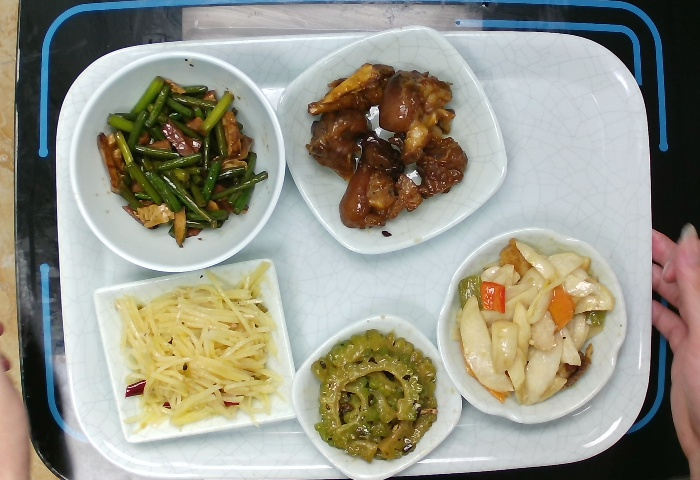JYsf-Ao_Yuan_Wan: (430, 224, 630, 424)
JYsf-Fan_Wan: (65, 48, 292, 278)
JYsf-Si_Fang_Die: (291, 310, 467, 480)
WCQzf-Da_Si_Fang_Die: (271, 23, 508, 257)
WCQzf-Ru_Ci_Si_Fang_Die: (88, 257, 297, 445)
